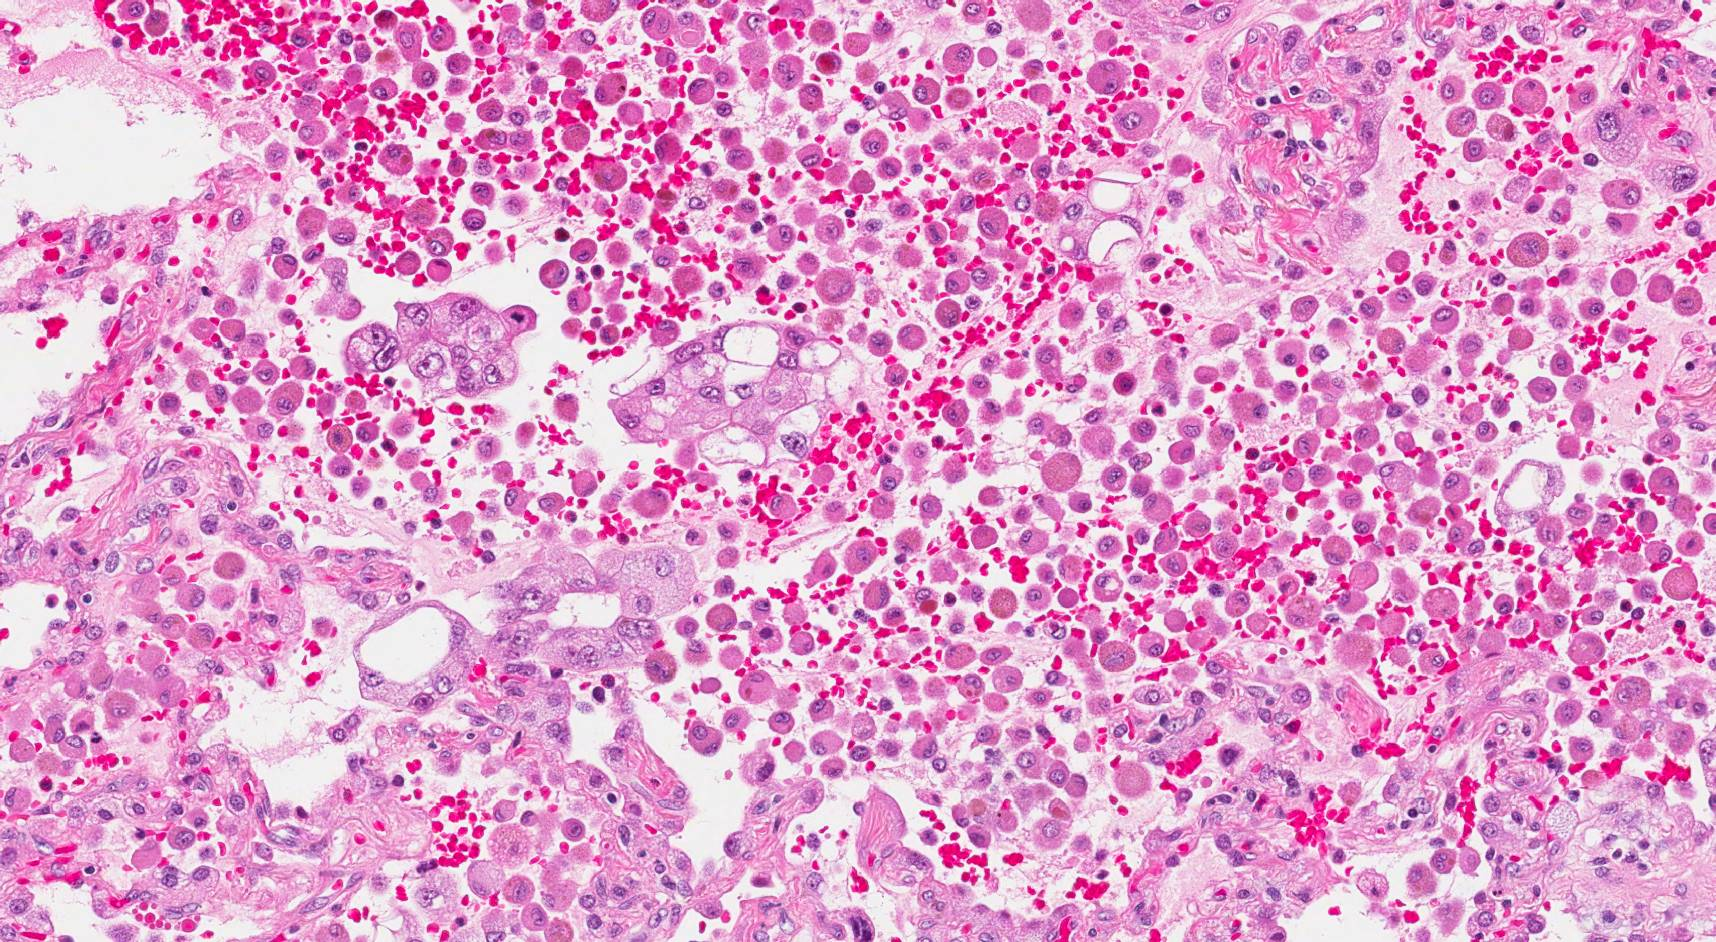stas: (351, 547, 698, 712), (605, 318, 838, 470), (342, 292, 540, 398)
